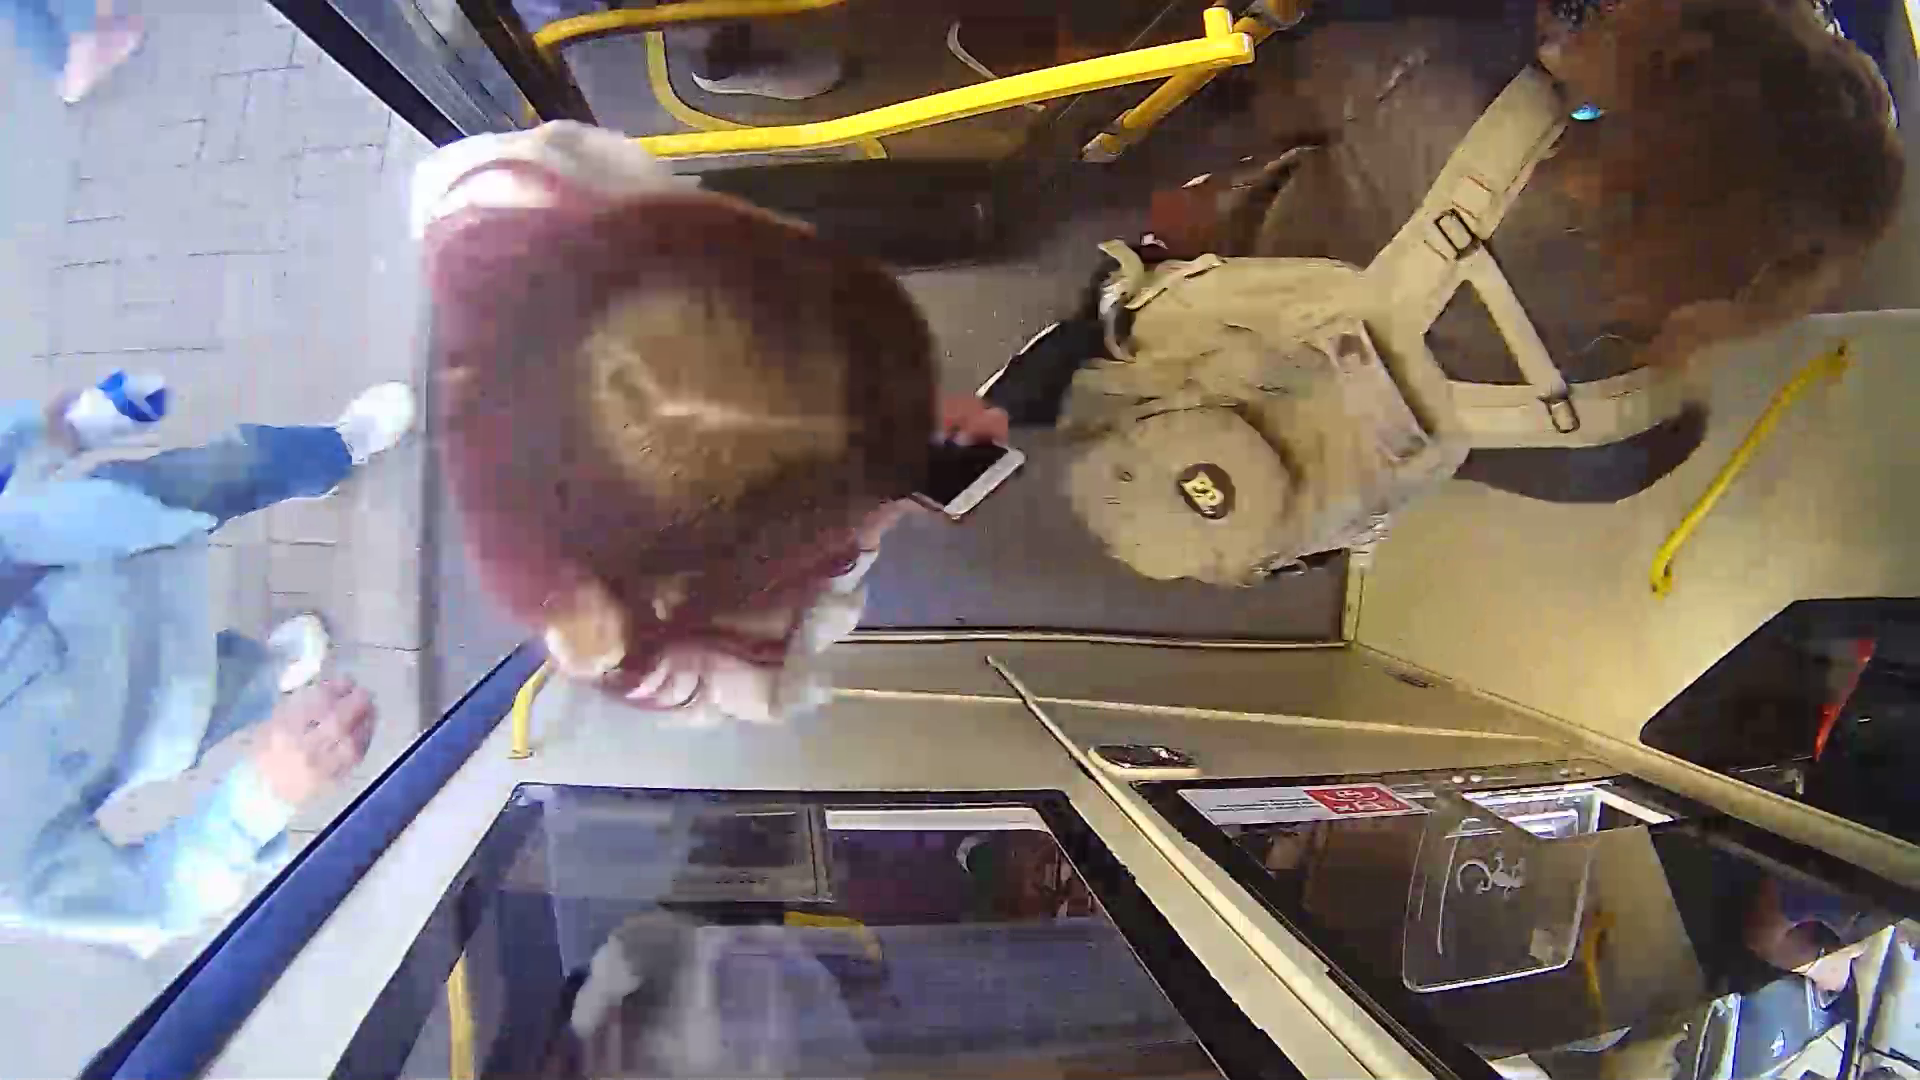person: (1073, 60, 1911, 586), (379, 117, 1064, 729)
